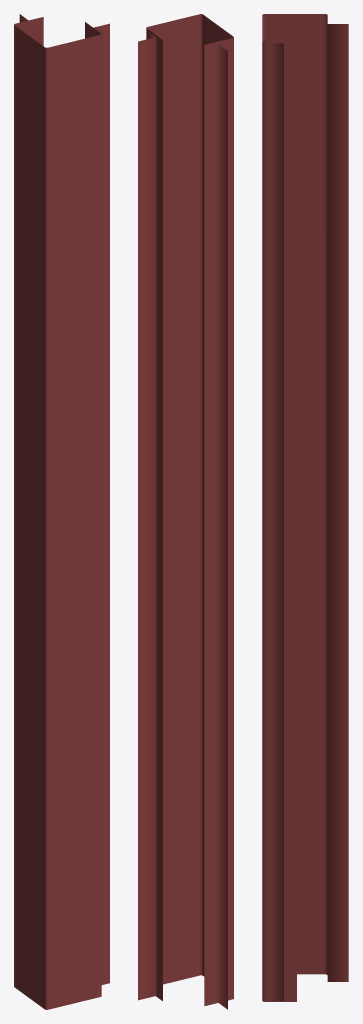
Rendered from Decal_wallIn_B_corner_outSmall.FBX.
3 views of the same model, side by side, from view 1: azimuth 30°, elevation 25°; view 2: azimuth 210°, elevation 25°; view 3: azimuth 270°, elevation 25° (orthographic).
Visible parts, largest first — view 1: Decal_wallIn_B_corner_outSmall; view 2: Decal_wallIn_B_corner_outSmall; view 3: Decal_wallIn_B_corner_outSmall.
Part boxes in pixels (bbox=[...]): Decal_wallIn_B_corner_outSmall: bbox=[14, 14, 109, 1009]; Decal_wallIn_B_corner_outSmall: bbox=[138, 14, 233, 1009]; Decal_wallIn_B_corner_outSmall: bbox=[262, 14, 348, 1001].
Bounding box in the file's own units: 20.63 × 253 × 20.65.
